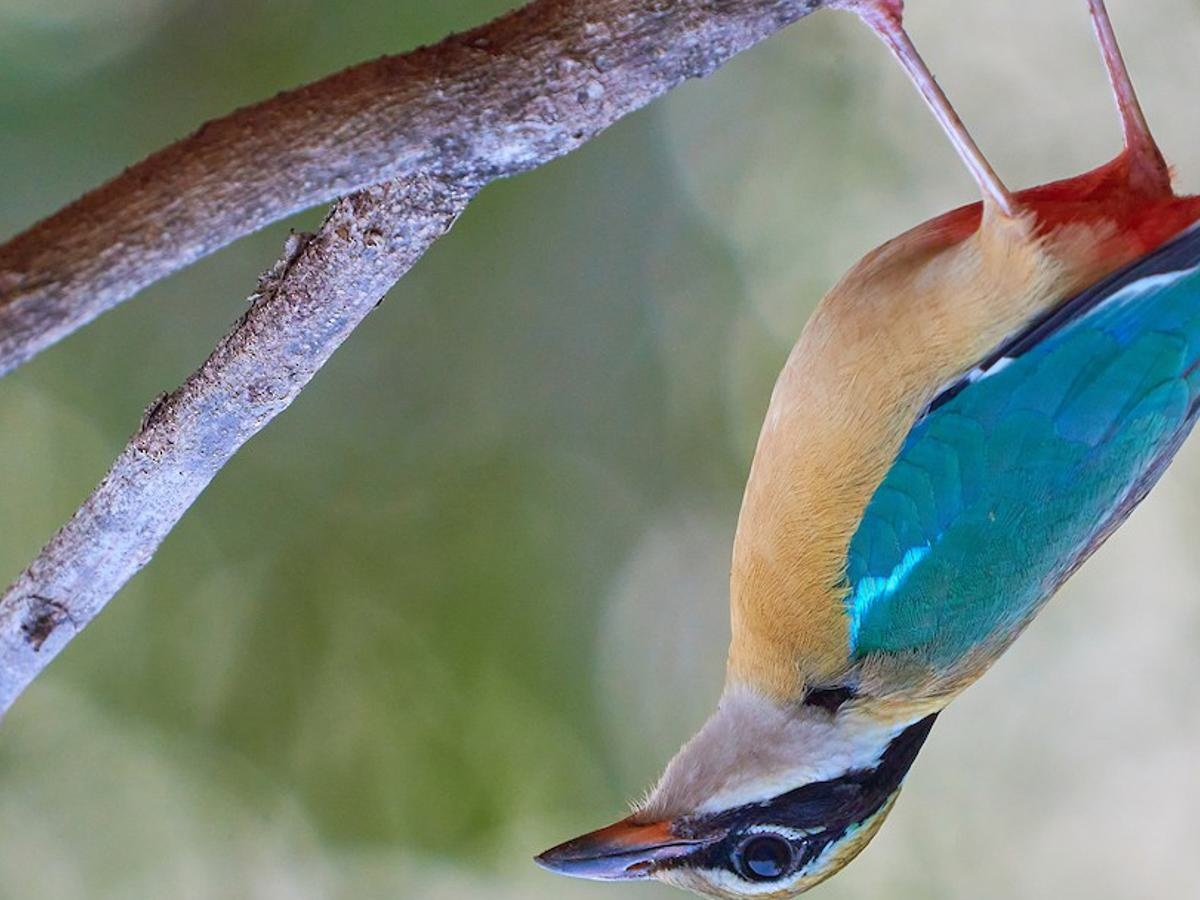pitta: (514, 11, 1180, 893)
